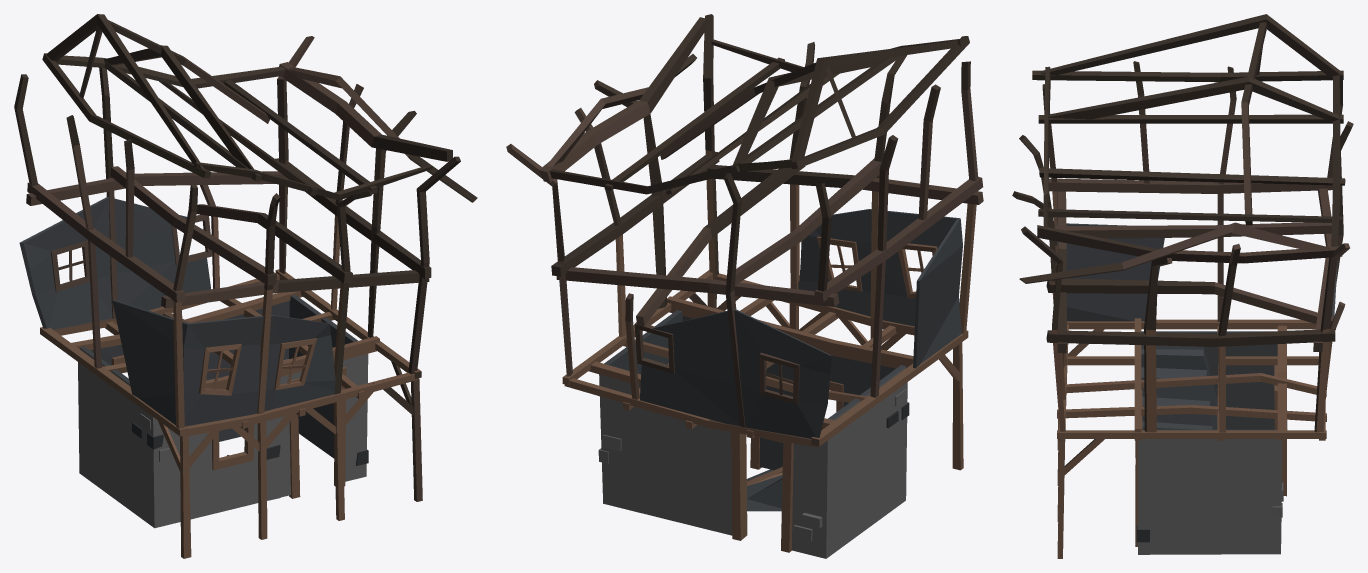
The picture shows the model from 3 angles, left to right: view 1: azimuth 30°, elevation 25°; view 2: azimuth 150°, elevation 25°; view 3: azimuth 270°, elevation 25°; orthographic projection. The views are drawn at different scales.
Visible parts, largest first — view 1: gtmfc_house_large_burned; view 2: gtmfc_house_large_burned; view 3: gtmfc_house_large_burned.
Boxes of the visible parts, box(x1,y1,x2,y2) form: gtmfc_house_large_burned: box(14, 14, 477, 558); gtmfc_house_large_burned: box(506, 14, 983, 558); gtmfc_house_large_burned: box(1012, 14, 1353, 558).
Size of the model in its own units: 5.24 by 7.35 by 5.07.
Materials: 1 (1 with a texture image).
